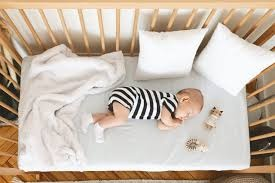baby: (92, 86, 203, 142)
crib: (0, 0, 274, 128)
